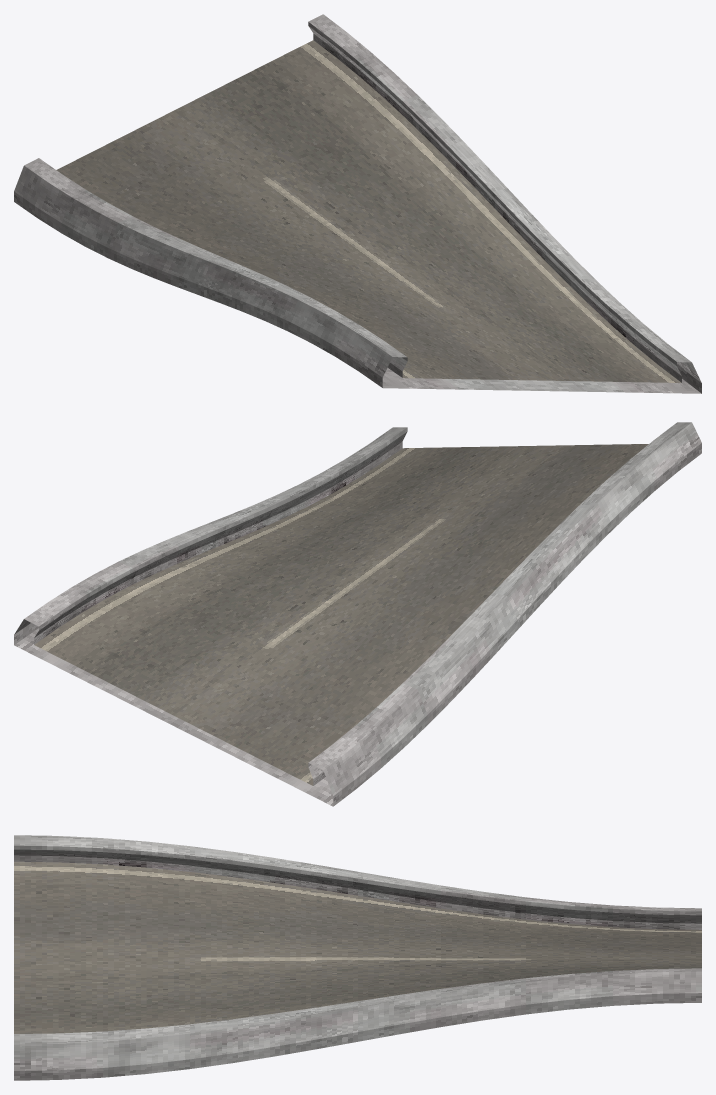
Rendered from road-Straight-HalfBankedRight-HalfBankedLeft-Even-Center-Size2.glb.
The picture shows the model from 3 angles, top to bottom: view 1: azimuth 30°, elevation 25°; view 2: azimuth 150°, elevation 25°; view 3: azimuth 270°, elevation 25°; orthographic projection. The views are drawn at different scales.
Visible parts, largest first — view 1: road-Straight-HalfBankedRight-HalfBankedLeft-Even-Center-Siz; view 2: road-Straight-HalfBankedRight-HalfBankedLeft-Even-Center-Siz; view 3: road-Straight-HalfBankedRight-HalfBankedLeft-Even-Center-Siz.
Part boxes in pixels (left/top/right/bottom): road-Straight-HalfBankedRight-HalfBankedLeft-Even-Center-Siz: left=14, top=14, right=701, bottom=393; road-Straight-HalfBankedRight-HalfBankedLeft-Even-Center-Siz: left=14, top=422, right=701, bottom=806; road-Straight-HalfBankedRight-HalfBankedLeft-Even-Center-Siz: left=14, top=835, right=701, bottom=1080.
Size of the model in its own units: 1 by 0.3359 by 2.
2 materials, 2 textured.
